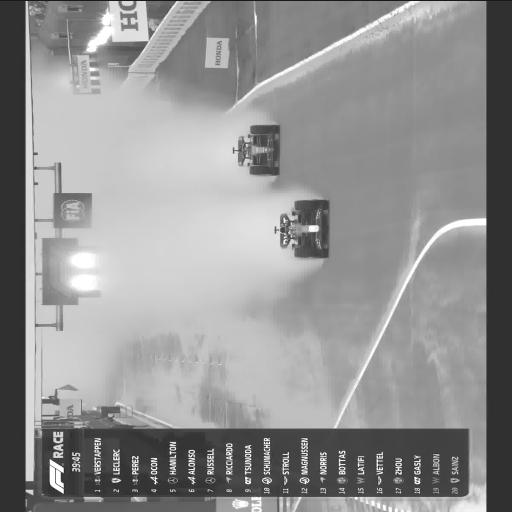f1_car: (274, 199, 328, 258), (233, 124, 279, 175)
